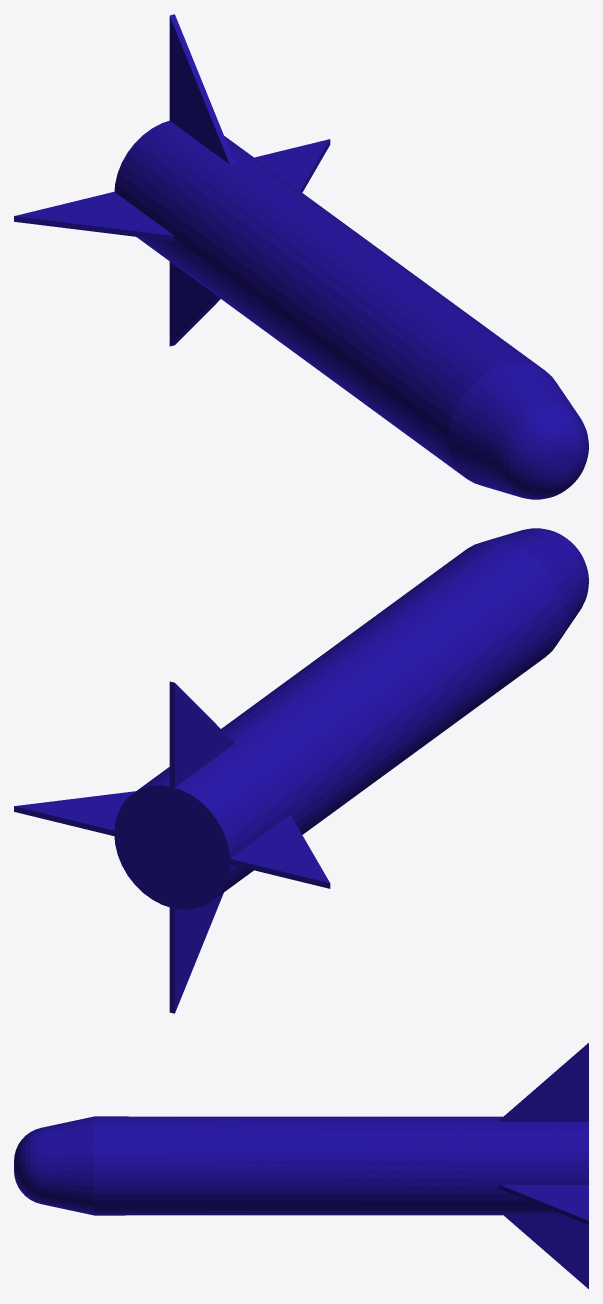
File: rocket.obj
The picture shows the model from 3 angles, top to bottom: view 1: azimuth 30°, elevation 25°; view 2: azimuth 150°, elevation 25°; view 3: azimuth 270°, elevation 25°; orthographic projection. The views are drawn at different scales.
Parts seen in each view (by area): view 1: foguete; view 2: foguete; view 3: foguete.
Part boxes in pixels (<box>): foguete: <box>14,14,588,499</box>; foguete: <box>14,528,588,1013</box>; foguete: <box>14,1043,588,1288</box>.
Bounding box in the file's own units: 3.19 × 3.19 × 6.78.
